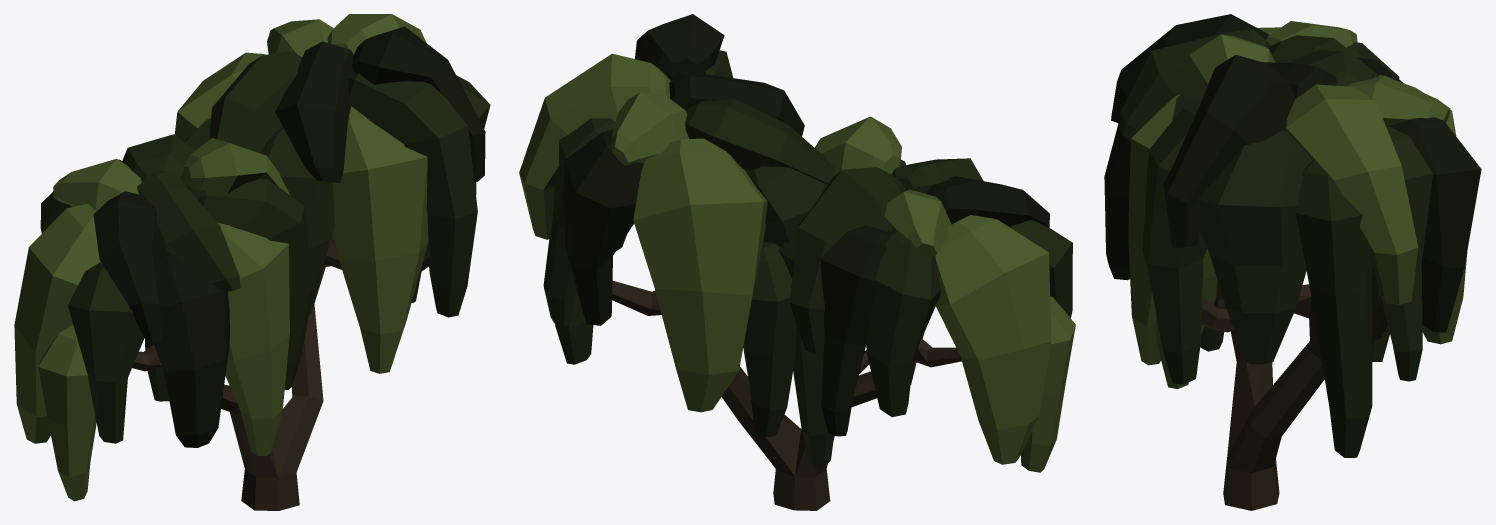
Rendered from 버드나무.fbx.
3 views of the same model, side by side, from view 1: azimuth 30°, elevation 25°; view 2: azimuth 150°, elevation 25°; view 3: azimuth 270°, elevation 25° (orthographic). The views are drawn at different scales.
Parts seen in each view (by area): view 1: Tree_Type6_04_mesh; view 2: Tree_Type6_04_mesh; view 3: Tree_Type6_04_mesh.
Part boxes in pixels (x1,y1,x2,y2): Tree_Type6_04_mesh: (14,14,490,510); Tree_Type6_04_mesh: (519,14,1075,510); Tree_Type6_04_mesh: (1104,14,1481,510).
Size of the model in its own units: 509 by 467 by 317.
